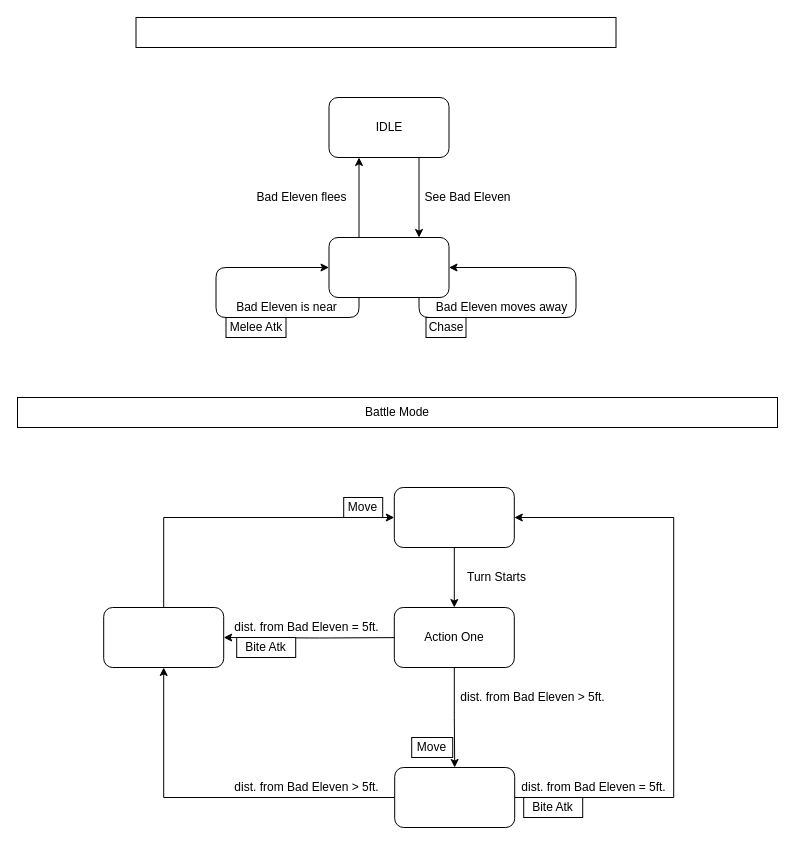
This 795x845 diagram has some shape labels left out. The centre of each missing label's shape, as x and y in pixels:
"Action Two" belongs at point (454, 797).
"AGGRESSIVE" belongs at point (388, 267).
"Free Roaming" belongs at point (375, 32).
"Moving Action" belongs at point (163, 637).
"Wait Turn" belongs at point (453, 517).
